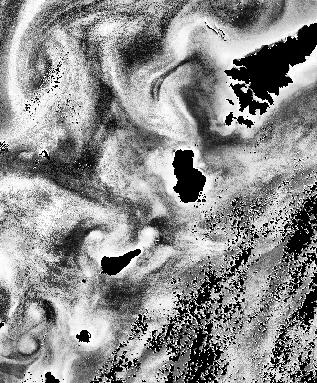CE: (14, 20, 80, 110), (13, 328, 44, 363)
